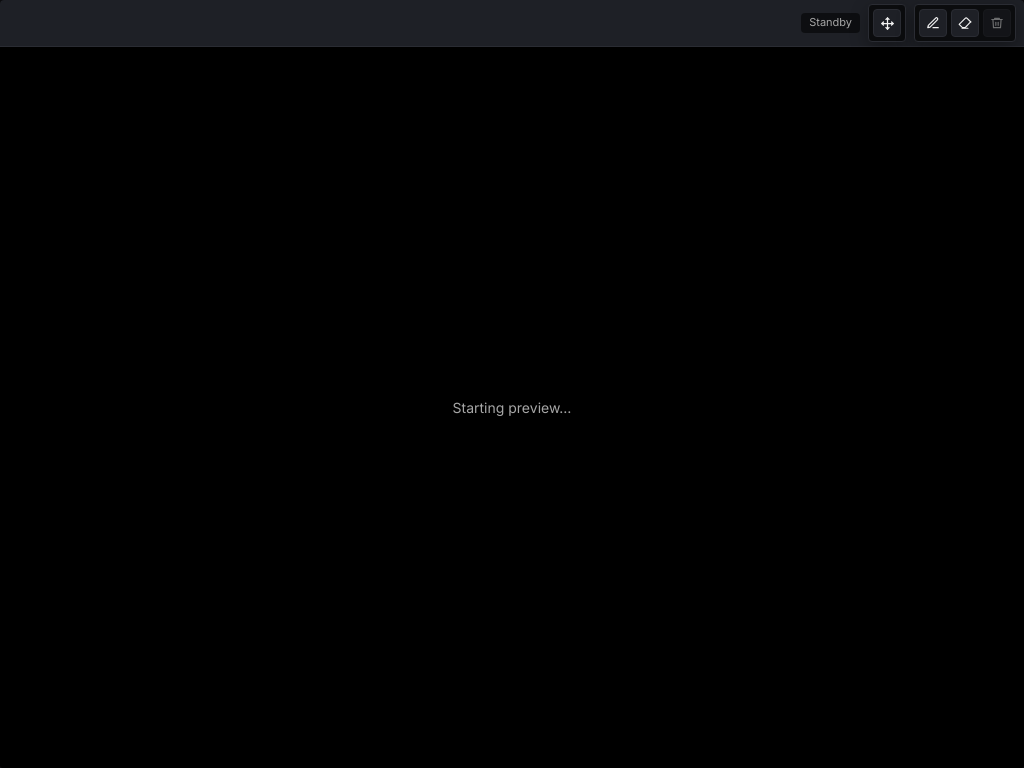
PreviewPanel › shows all source boxes in edit layout but resize handles only on the selected one
Click the button named "Edit layout". click: (887, 23)
box: [873,9,901,37]
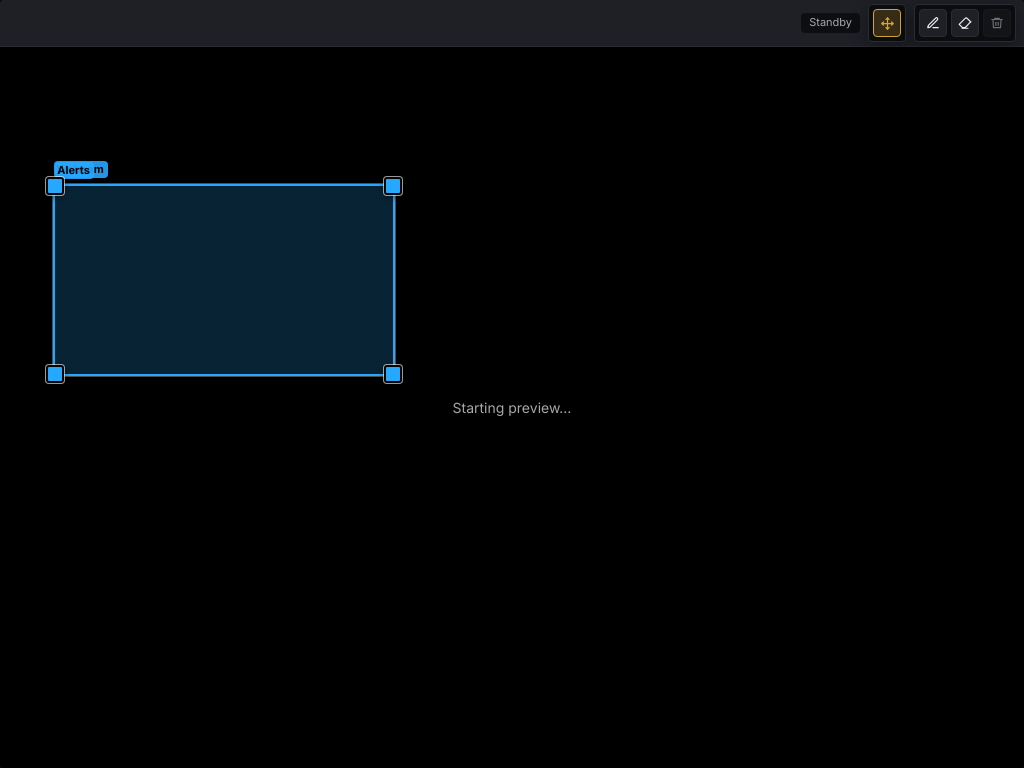
Expected: the element titled "Drag to move Alerts" is shown, [53,184,395,376]
Expected: the element named "Resize bottom-right Alerts" is shown, [384,364,402,382]
